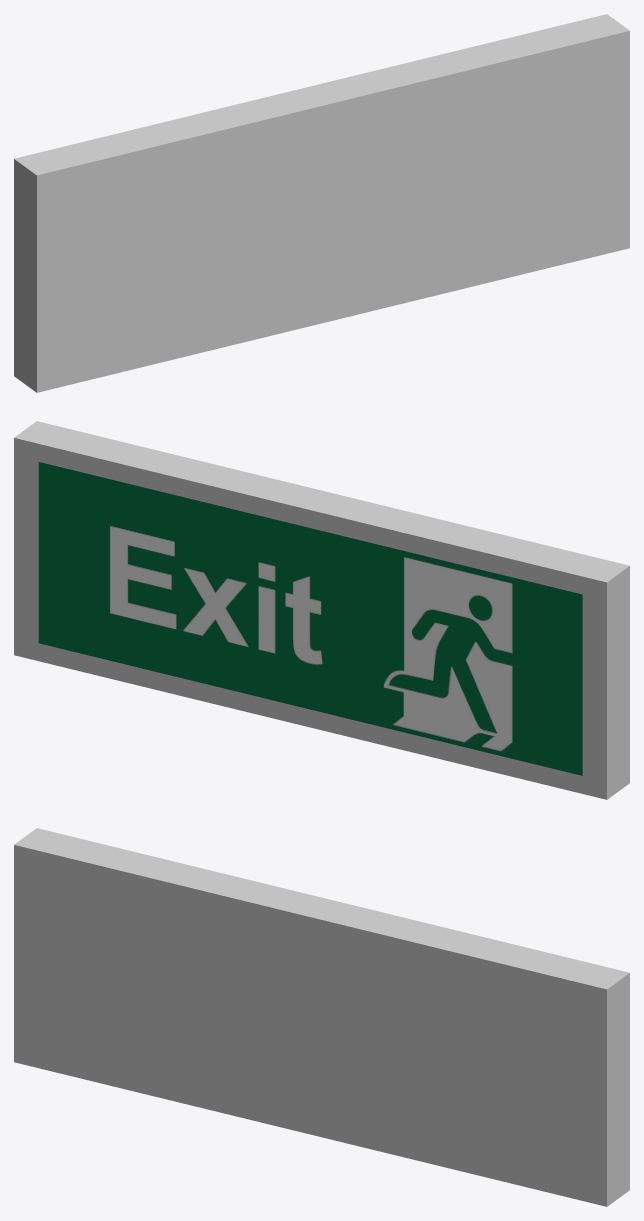
File: exit-sign.fbx
The picture shows the model from 3 angles, top to bottom: view 1: azimuth 30°, elevation 25°; view 2: azimuth 150°, elevation 25°; view 3: azimuth 330°, elevation 25°; orthographic projection.
Parts seen in each view (by area): view 1: Cube.005; view 2: Cube.005; view 3: Cube.005.
Boxes of the visible parts, x1,y1,x2,y2 form: Cube.005: (14,14,629,392); Cube.005: (14,421,629,799); Cube.005: (14,828,629,1206).
Bounding box in the file's own units: 0.8205 × 0.2874 × 0.0549.
Materials: 2 (1 with a texture image).
